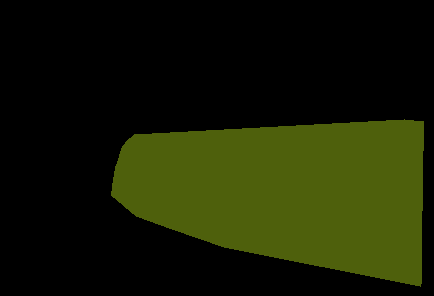Train: (111, 119, 424, 286)
